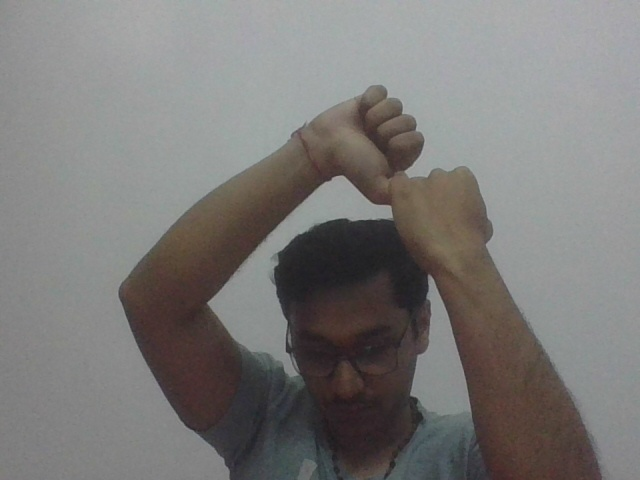S: (338, 78, 496, 220)
